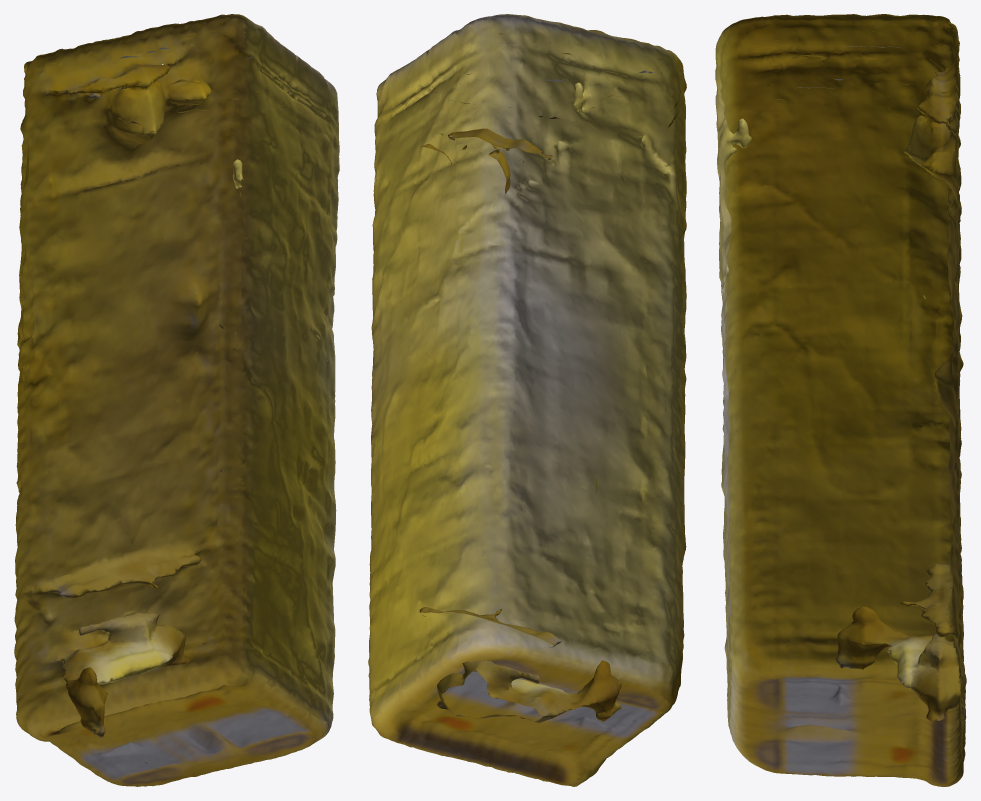
The model's file is school_bus1.glb.
The picture shows the model from 3 angles, left to right: view 1: azimuth 30°, elevation 25°; view 2: azimuth 150°, elevation 25°; view 3: azimuth 270°, elevation 25°; orthographic projection. The views are drawn at different scales.
Size of the model in its own units: 0.3945 by 1 by 0.3336.
